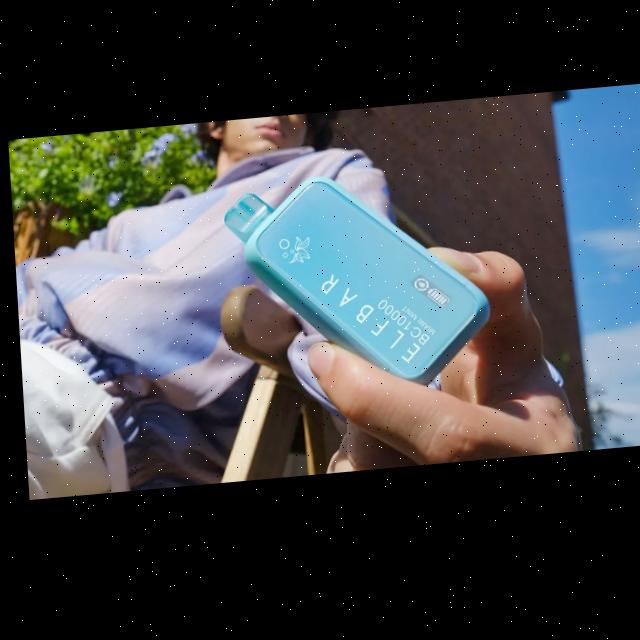vape: (218, 171, 489, 407)
